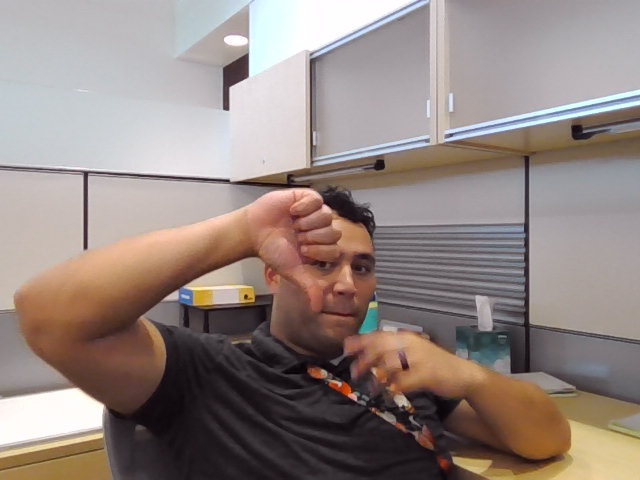ThumbsDown: (253, 187, 343, 313)
